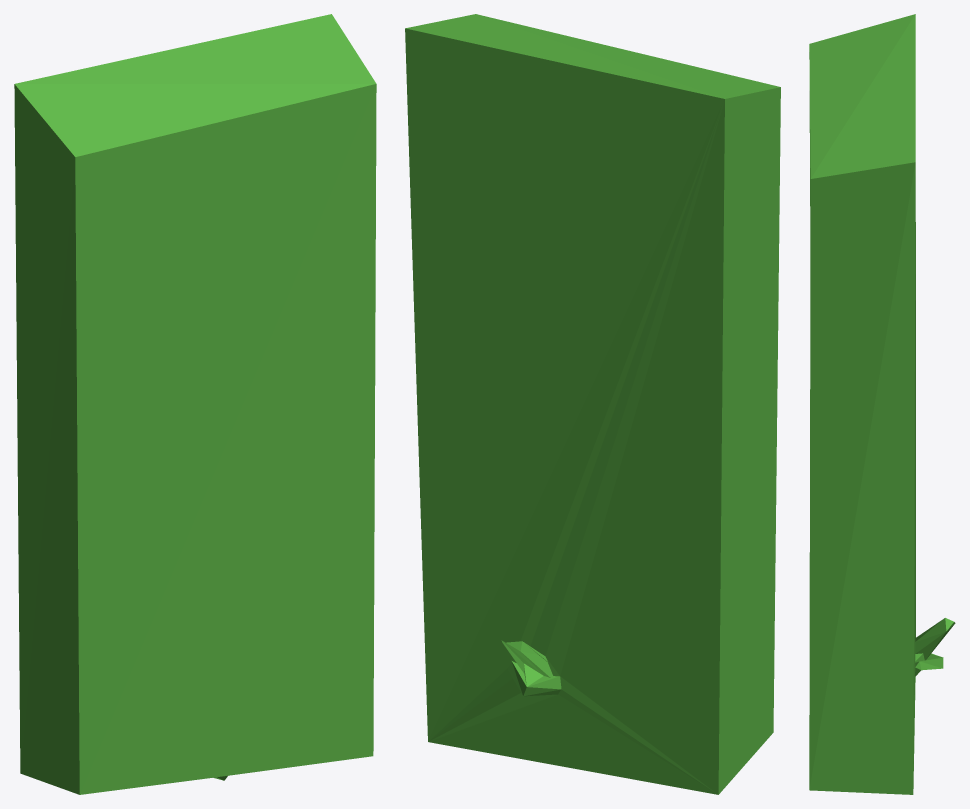
3 renders of one model, left to right at view 1: azimuth 30°, elevation 25°; view 2: azimuth 150°, elevation 25°; view 3: azimuth 270°, elevation 25°, orthographic. The views are drawn at different scales.
Parts seen in each view (by area): view 1: 570_Cube.2297; view 2: 570_Cube.2297; view 3: 570_Cube.2297.
Boxes of the visible parts, x1,y1,x2,y2 form: 570_Cube.2297: (14, 14, 376, 794); 570_Cube.2297: (405, 14, 780, 794); 570_Cube.2297: (809, 14, 955, 794).
Size of the model in its own units: 5.85 by 12.53 by 2.56.
